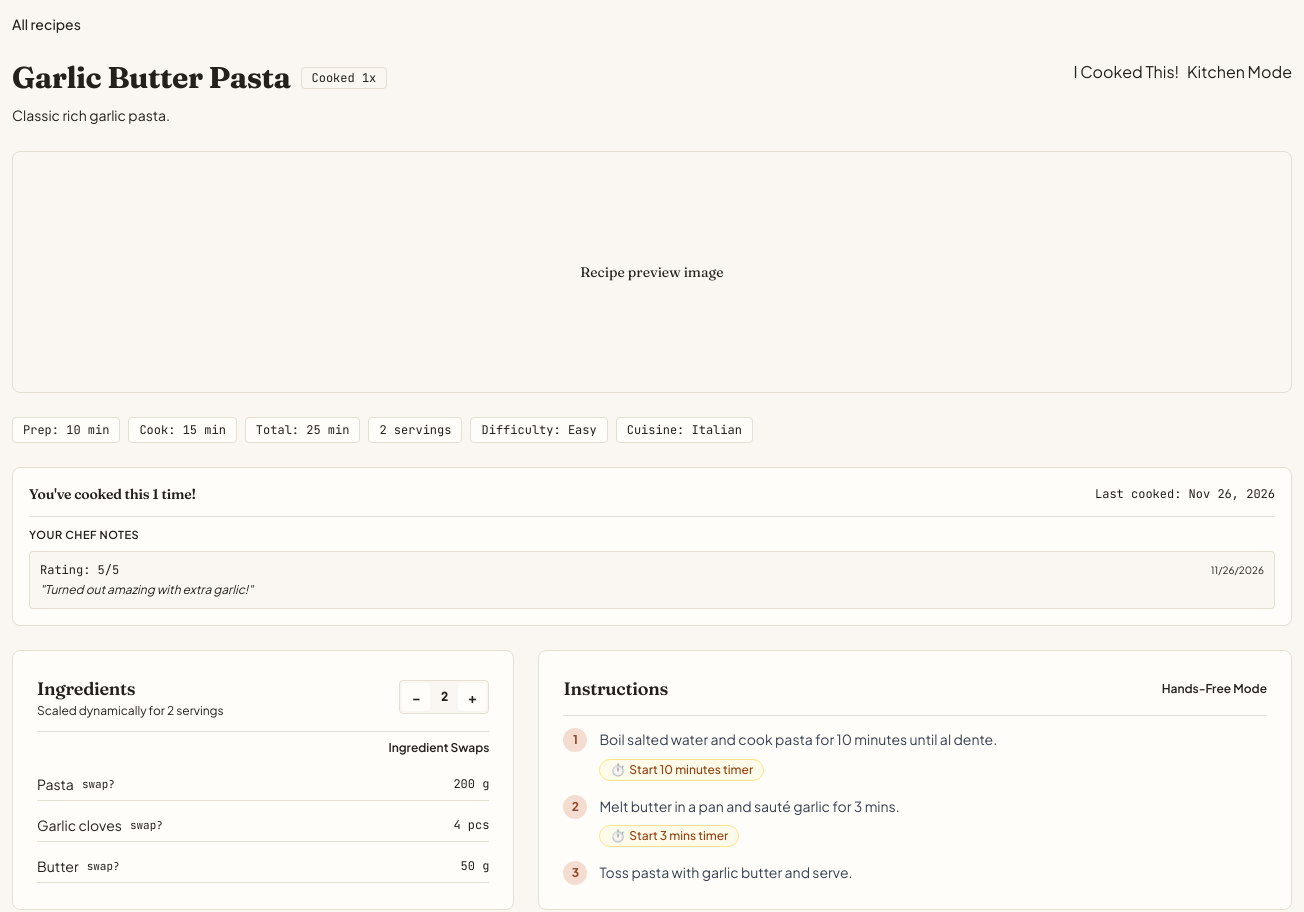
it: RecipeDetailPage Enhancements › dynamically scales ingredients when adjusting the servings stepper
Expected: the heading "Garlic Butter Pasta" is shown, x1=12 y1=60 x2=290 y2=96
Note: Default is 2 servings. Increase to 3 servings (ratio 1.5x)
Click the button named "increase servings". click: (472, 697)
box: x1=458 y1=683 x2=486 y2=711
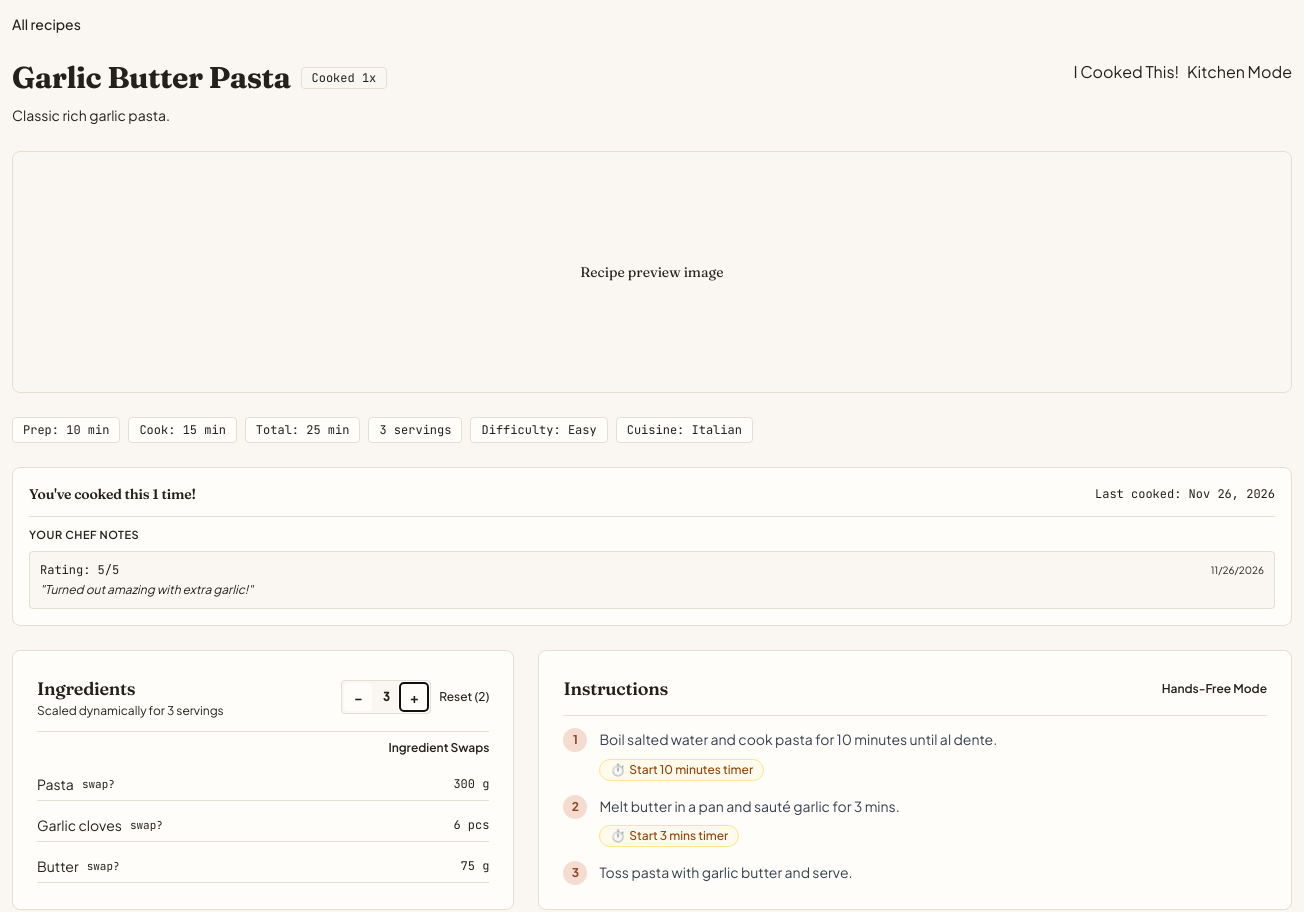
Expected: the text "300 g" is shown, x1=453 y1=776 x2=489 y2=792
Expected: the text "6 pcs" is shown, x1=453 y1=817 x2=489 y2=833
Note: Reset button should be visible
Click the button "Reset (2)". click: (464, 697)
box: x1=439 y1=689 x2=489 y2=705
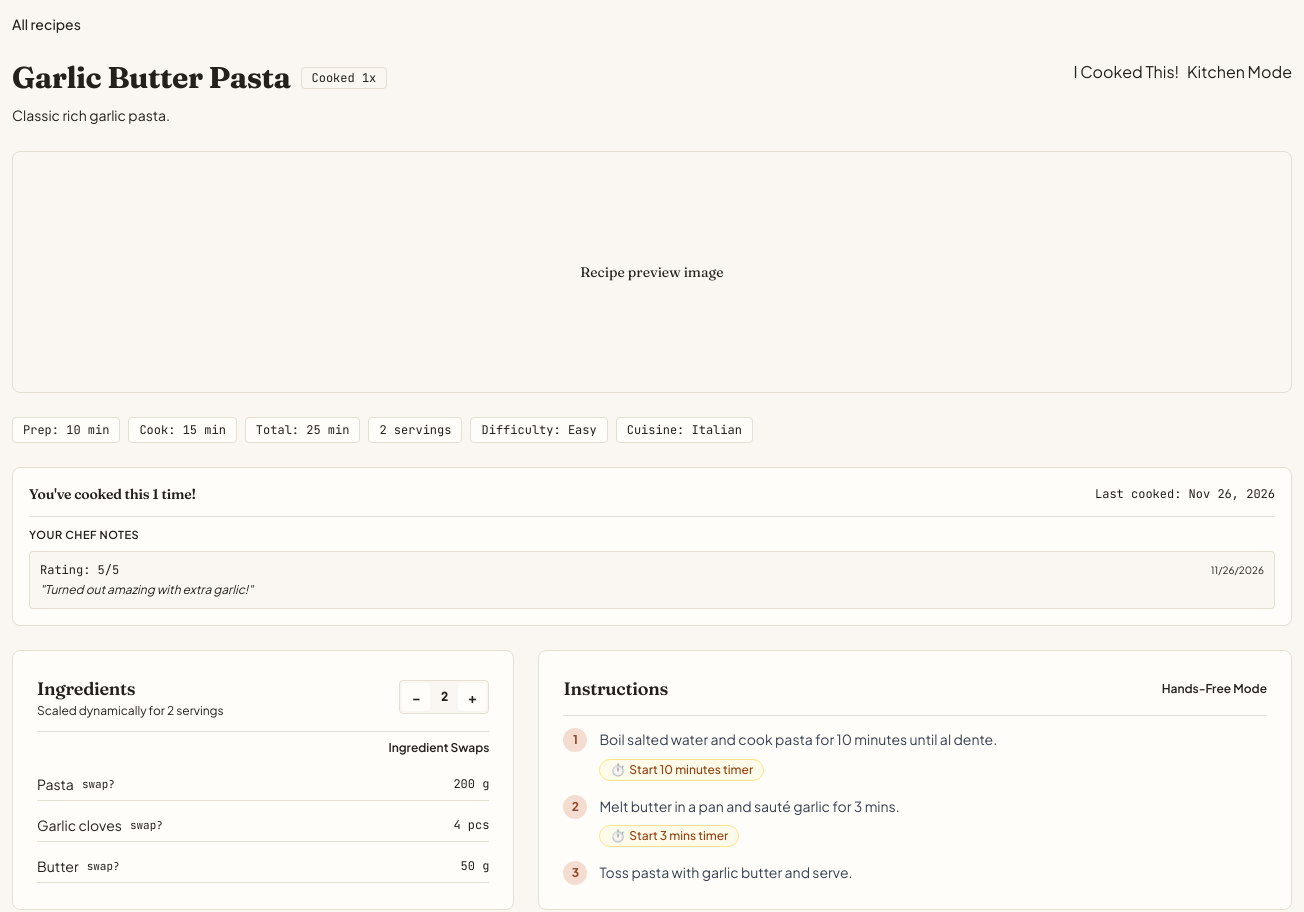
Expected: the text "200 g" is shown, x1=453 y1=776 x2=489 y2=792
